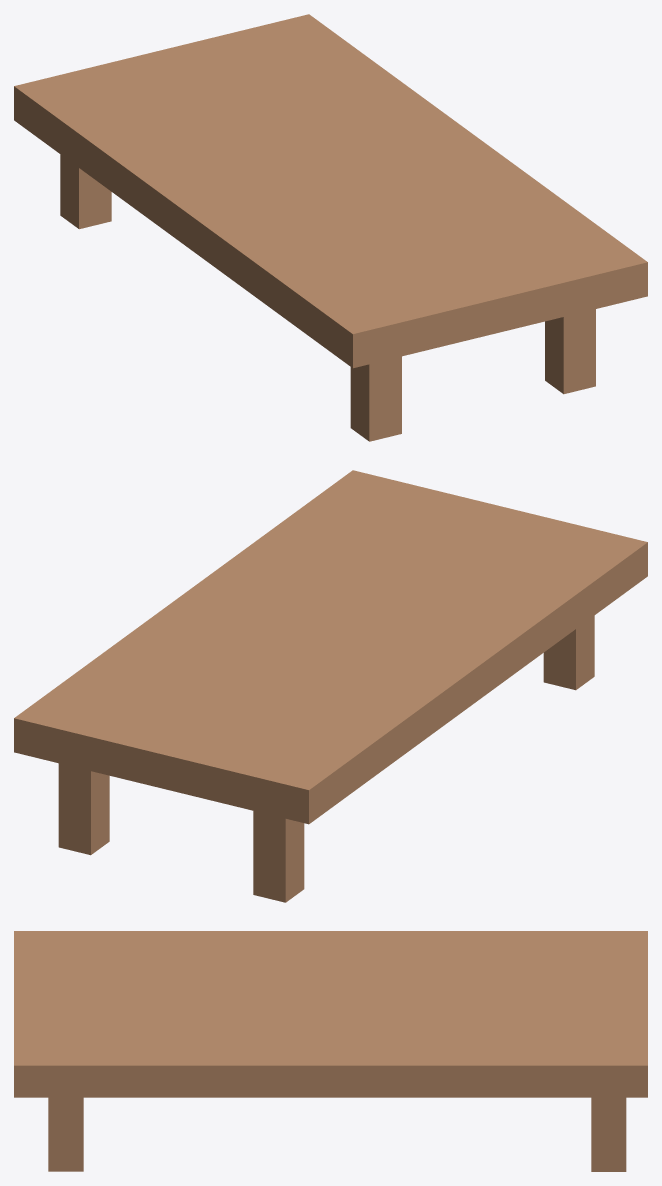
File: cofftable.fbx
The picture shows the model from 3 angles, top to bottom: view 1: azimuth 30°, elevation 25°; view 2: azimuth 150°, elevation 25°; view 3: azimuth 270°, elevation 25°; orthographic projection. The views are drawn at different scales.
Visible parts, largest first — view 1: Cube, Cube.003, Cube.004, Cube.001; view 2: Cube, Cube.002, Cube.001, Cube.003; view 3: Cube, Cube.004, Cube.002.
Part boxes in pixels (x1,y1,x2,y2): Cube: (14,14,647,368); Cube.003: (350,356,401,441); Cube.004: (545,309,595,394); Cube.001: (60,154,111,229); Cube: (14,470,647,824); Cube.002: (58,763,109,855); Cube.001: (253,811,304,902); Cube.003: (543,615,594,690); Cube: (14,931,647,1097); Cube.004: (48,1097,83,1171); Cube.002: (591,1097,626,1171).
Bounding box in the file's own units: 353 × 148 × 702.
